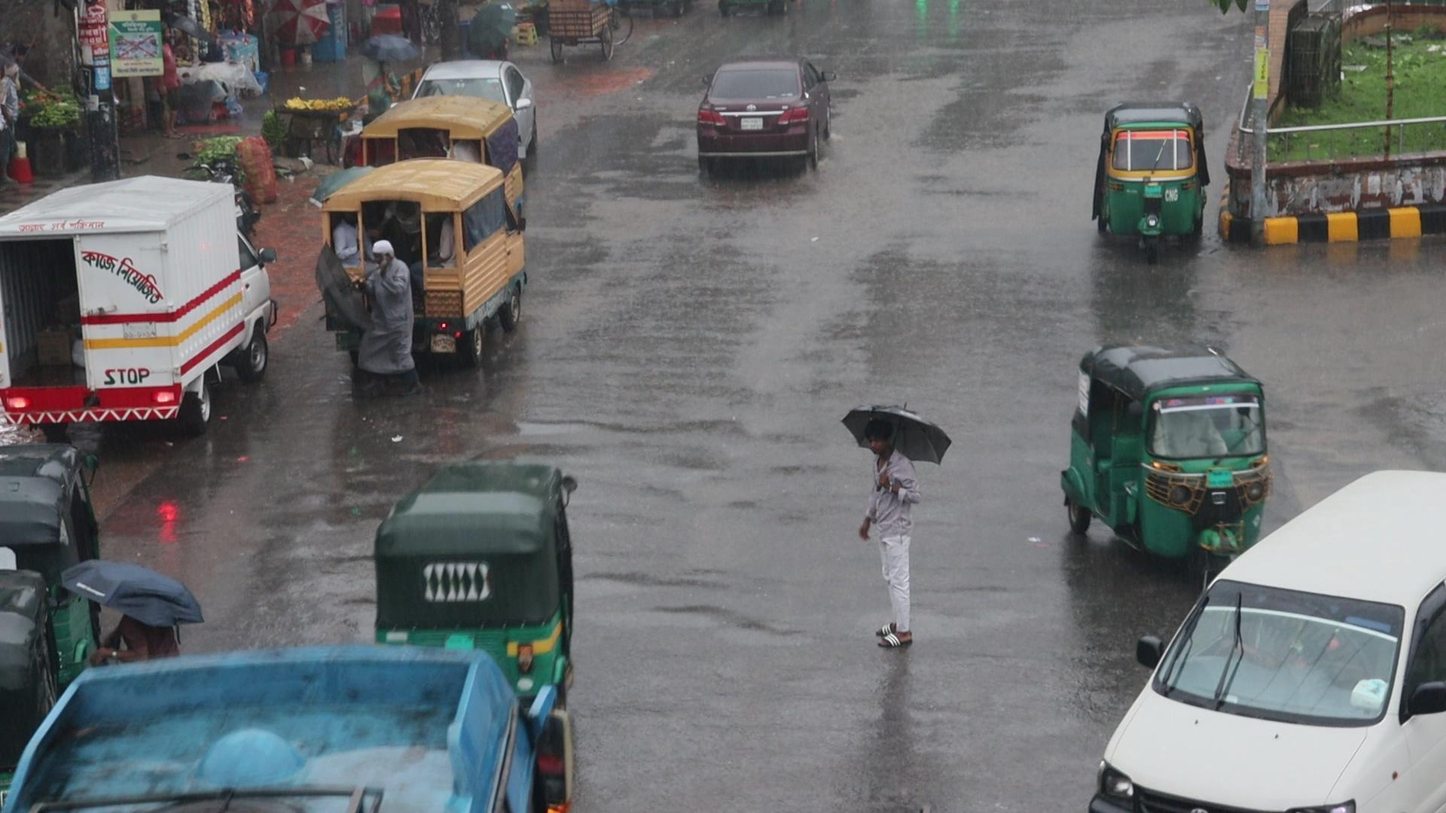Car: (1086, 467, 1446, 813), (1059, 339, 1274, 553), (371, 455, 576, 658), (695, 54, 832, 174)
Truck: (318, 154, 526, 364)
